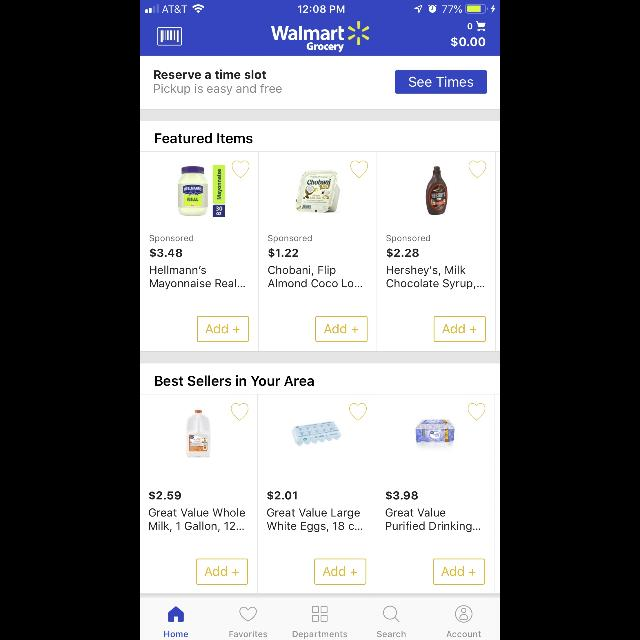icon: (231, 403, 249, 421), (350, 160, 368, 178), (232, 160, 250, 178), (468, 404, 486, 421), (349, 404, 366, 421), (382, 606, 400, 622), (468, 162, 486, 178), (312, 606, 328, 622), (240, 606, 256, 622), (168, 606, 184, 622), (456, 606, 472, 622), (476, 20, 486, 32)
image: (178, 165, 226, 217), (296, 170, 340, 214), (185, 410, 211, 458), (292, 421, 342, 445), (416, 419, 454, 447), (427, 167, 448, 215), (348, 21, 370, 45), (158, 28, 182, 46)
text: (386, 266, 484, 290), (150, 266, 246, 290), (149, 508, 245, 532), (268, 508, 362, 532), (386, 508, 480, 532), (268, 266, 362, 288), (272, 27, 344, 53), (156, 376, 314, 386), (154, 84, 282, 96), (154, 69, 266, 79), (156, 134, 252, 144), (292, 631, 348, 639), (451, 36, 485, 48), (268, 235, 312, 243), (386, 235, 430, 243), (150, 235, 194, 243), (150, 248, 182, 258), (387, 248, 419, 258), (150, 491, 182, 501), (386, 491, 418, 501), (229, 630, 267, 638), (268, 248, 298, 258), (268, 491, 296, 501), (377, 630, 405, 638), (447, 631, 481, 637), (164, 631, 188, 637), (468, 24, 472, 30)
textbutton: (395, 70, 487, 94), (433, 559, 485, 585), (314, 559, 366, 585), (196, 559, 248, 585), (197, 316, 249, 342), (316, 316, 368, 342), (434, 316, 486, 342)
uppertaskbar: (140, 0, 500, 14)
